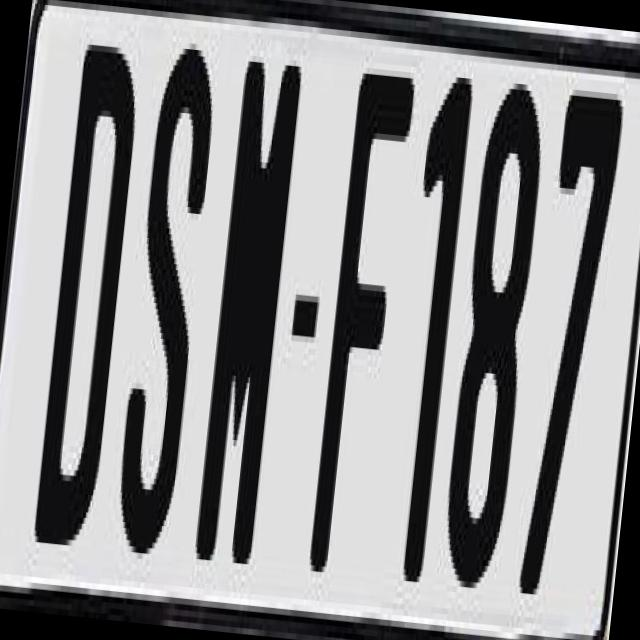1: (379, 74, 476, 600)
7: (512, 88, 629, 628)
8: (434, 74, 548, 618)
D: (30, 32, 148, 554)
F: (308, 56, 420, 576)
M: (192, 55, 310, 577)
S: (106, 28, 223, 567)
